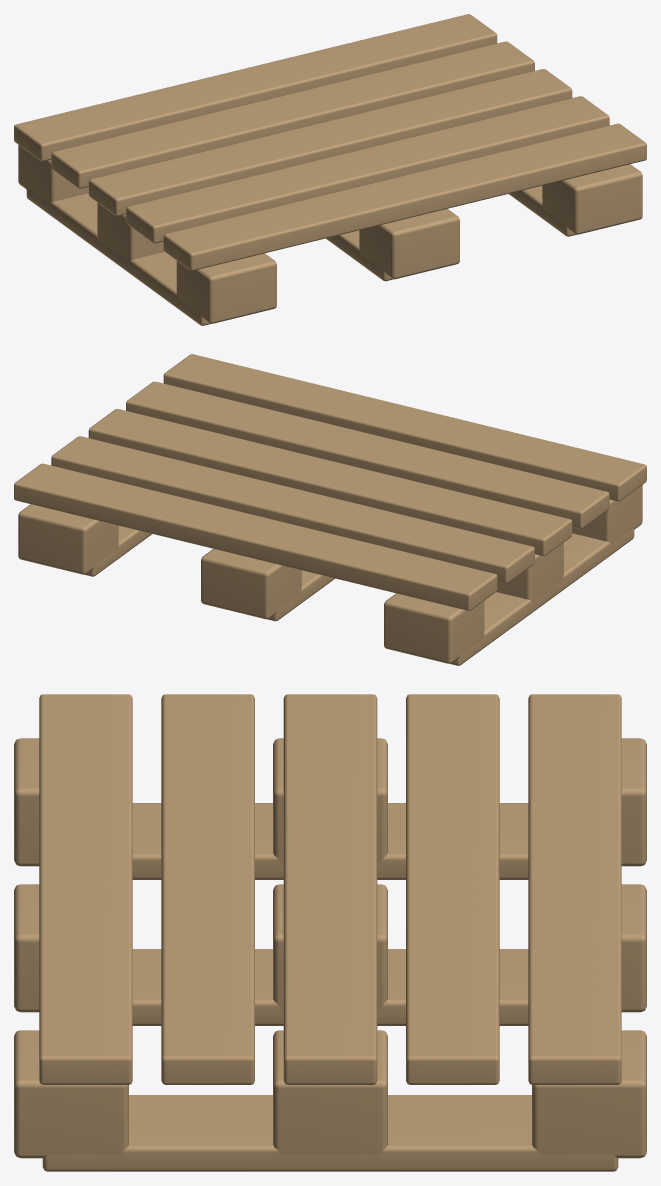
The model's file is pallet.glb.
3 views of the same model, one above another, from view 1: azimuth 30°, elevation 25°; view 2: azimuth 150°, elevation 25°; view 3: azimuth 270°, elevation 25° (orthographic). The views are drawn at different scales.
Visible parts, largest first — view 1: top-board, top-board.001, top-board.002, top-board.004, top-board.003, pallet-block, pallet-block.006, pallet-block.003, bottom-board, pallet-block.002, pallet-block.001, bottom-board.001 (+1 smaller); view 2: top-board.004, top-board.002, top-board.003, top-board, top-board.001, pallet-block.002, pallet-block.005, pallet-block.008, bottom-board, pallet-block, pallet-block.001, bottom-board.002 (+1 smaller); view 3: top-board.002, top-board.001, top-board.003, top-board, top-board.004, bottom-board.002, pallet-block.006, pallet-block.008, pallet-block.007, bottom-board.001, bottom-board, pallet-block (+5 smaller).
Boxes of the visible parts, x1,y1,x2,y2 form: top-board: (163, 123, 646, 270); top-board.001: (126, 96, 609, 243); top-board.002: (88, 69, 572, 216); top-board.004: (14, 14, 497, 161); top-board.003: (51, 41, 534, 188); pallet-block: (176, 253, 276, 323); pallet-block.006: (542, 164, 642, 234); pallet-block.003: (359, 209, 459, 279); bottom-board: (26, 187, 211, 325); pallet-block.002: (18, 145, 88, 204); pallet-block.001: (97, 203, 164, 262); bottom-board.001: (326, 230, 393, 281); top-board.004: (14, 463, 497, 610); top-board.002: (88, 409, 572, 556); top-board.003: (51, 436, 534, 583); top-board: (163, 354, 646, 501); top-board.001: (126, 381, 609, 528); pallet-block.002: (384, 593, 484, 663); pallet-block.005: (201, 549, 301, 619); pallet-block.008: (18, 504, 118, 574); bottom-board: (449, 528, 634, 665); pallet-block: (572, 485, 642, 544); pallet-block.001: (496, 543, 563, 602); bottom-board.002: (84, 526, 151, 576); top-board.002: (283, 694, 377, 1084); top-board.001: (161, 694, 254, 1084); top-board.003: (406, 694, 499, 1084); top-board: (39, 694, 132, 1084); top-board.004: (528, 694, 621, 1084); bottom-board.002: (42, 1095, 618, 1171); pallet-block.006: (14, 1030, 128, 1158); pallet-block.008: (532, 1030, 646, 1158); pallet-block.007: (273, 1030, 387, 1154); bottom-board.001: (132, 949, 528, 1025); bottom-board: (132, 803, 528, 879); pallet-block: (14, 738, 39, 866).
Bounding box in the file's own units: 1.2 × 0.1925 × 0.88.
